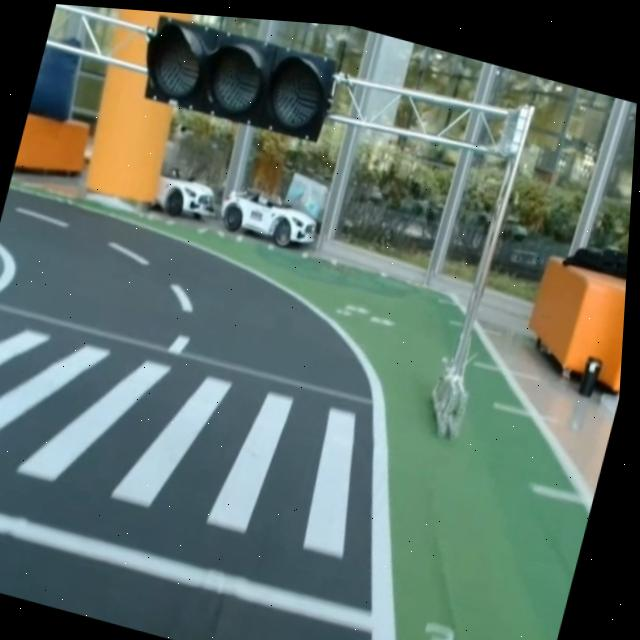traffic-light: (128, 10, 349, 153)
